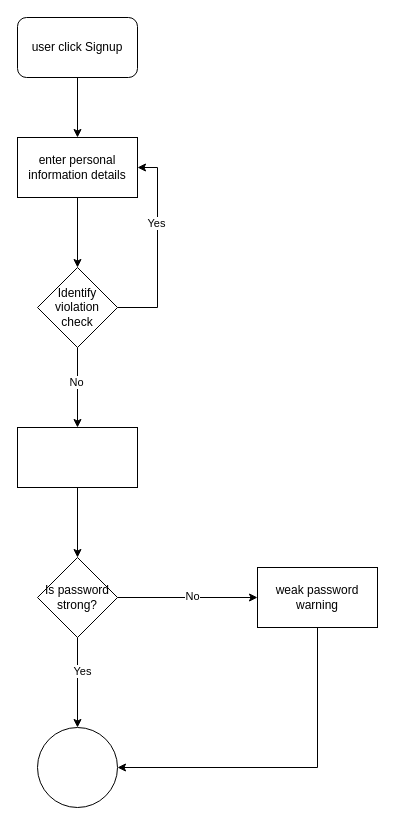
This 395x825 diagram has some shape labels left out. The shapes that lost their labels are listed below. From the top down, each one's centre as x and y in pixels, then its label:
[77,457]: enter password
[77,767]: Create basic account
